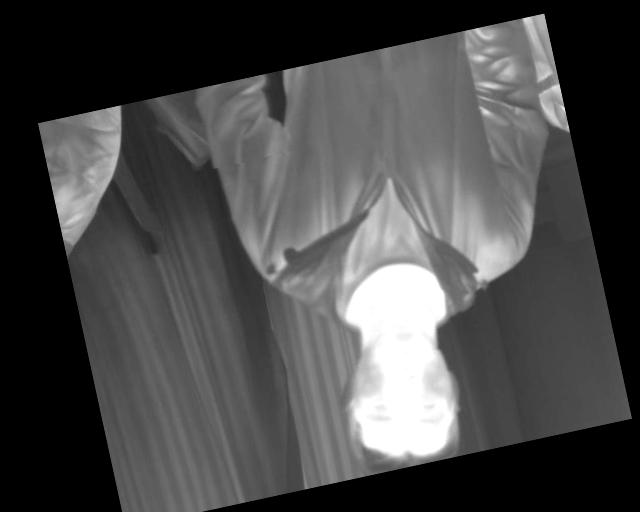face: (330, 319, 472, 477)
